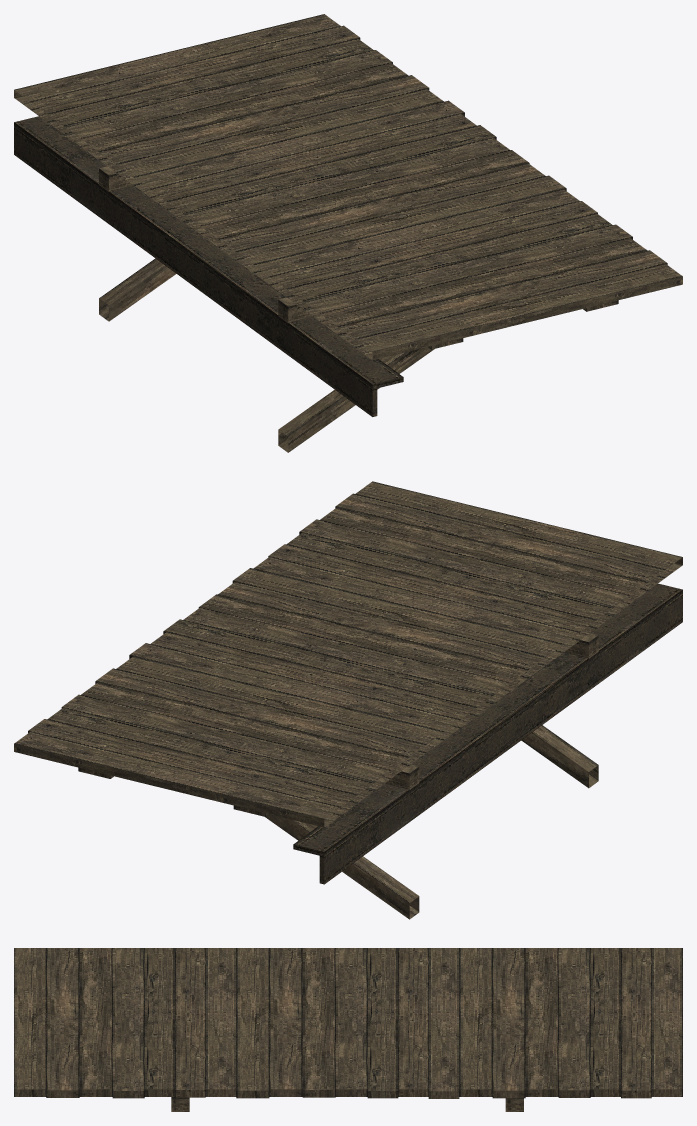
File: platform_ax_1.glb
The picture shows the model from 3 angles, top to bottom: view 1: azimuth 30°, elevation 25°; view 2: azimuth 150°, elevation 25°; view 3: azimuth 270°, elevation 25°; orthographic projection. The views are drawn at different scales.
Visible parts, largest first — view 1: platform_ax_1; view 2: platform_ax_1; view 3: platform_ax_1.
Boxes of the visible parts, bbox=[...] form: platform_ax_1: bbox=[14, 14, 682, 452]; platform_ax_1: bbox=[14, 481, 682, 919]; platform_ax_1: bbox=[14, 948, 682, 1111].
Size of the model in its own units: 2.03 by 1 by 4.
2 materials, 2 textured.
